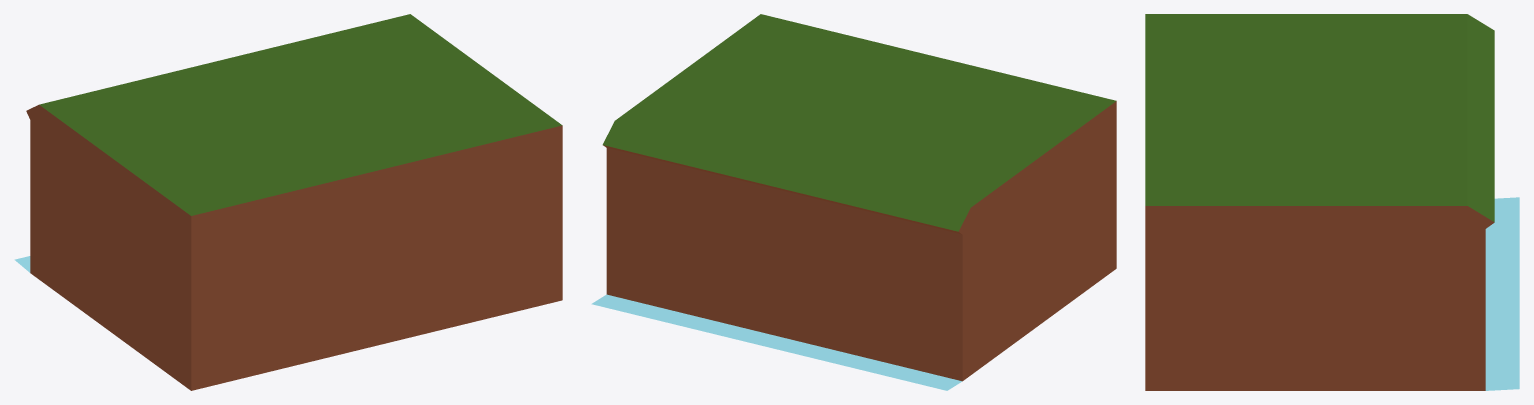
The model's file is tile_island_edge.glb.
3 renders of one model, left to right at view 1: azimuth 30°, elevation 25°; view 2: azimuth 150°, elevation 25°; view 3: azimuth 270°, elevation 25°, orthographic. The views are drawn at different scales.
Parts seen in each view (by area): view 1: tile_island_edge; view 2: tile_island_edge; view 3: tile_island_edge.
Part boxes in pixels (x1,y1,x2,y2): tile_island_edge: (14,14,562,390); tile_island_edge: (591,14,1116,390); tile_island_edge: (1145,14,1519,390).
Bounding box in the file's own units: 0.8 × 0.36 × 0.66.
Materials: 1 (1 with a texture image).
